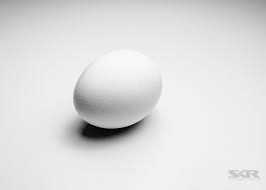eggs: (73, 48, 161, 124)
